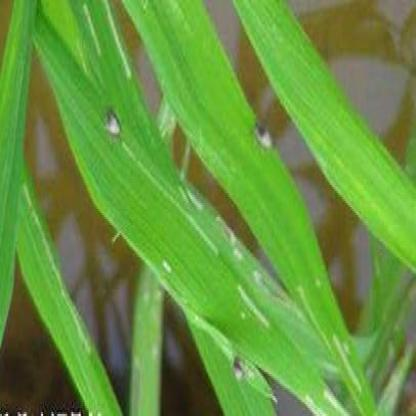rice-bug: (254, 119, 273, 152), (103, 106, 121, 139), (233, 356, 244, 378)
